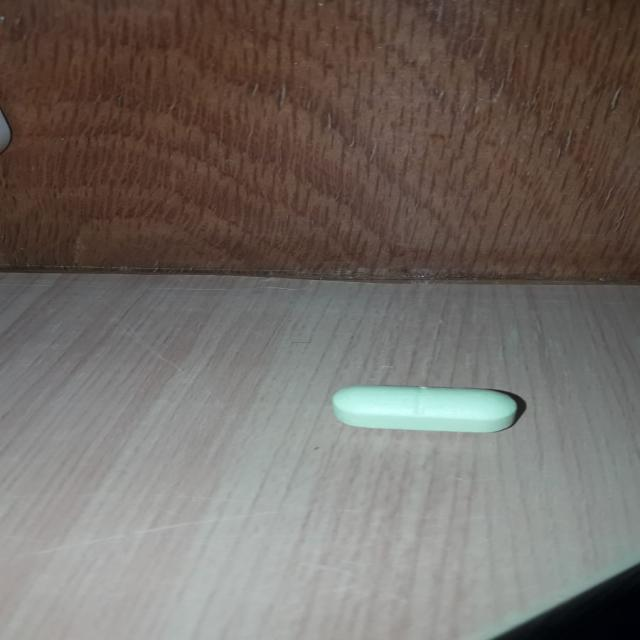pills: (316, 374, 528, 441)
